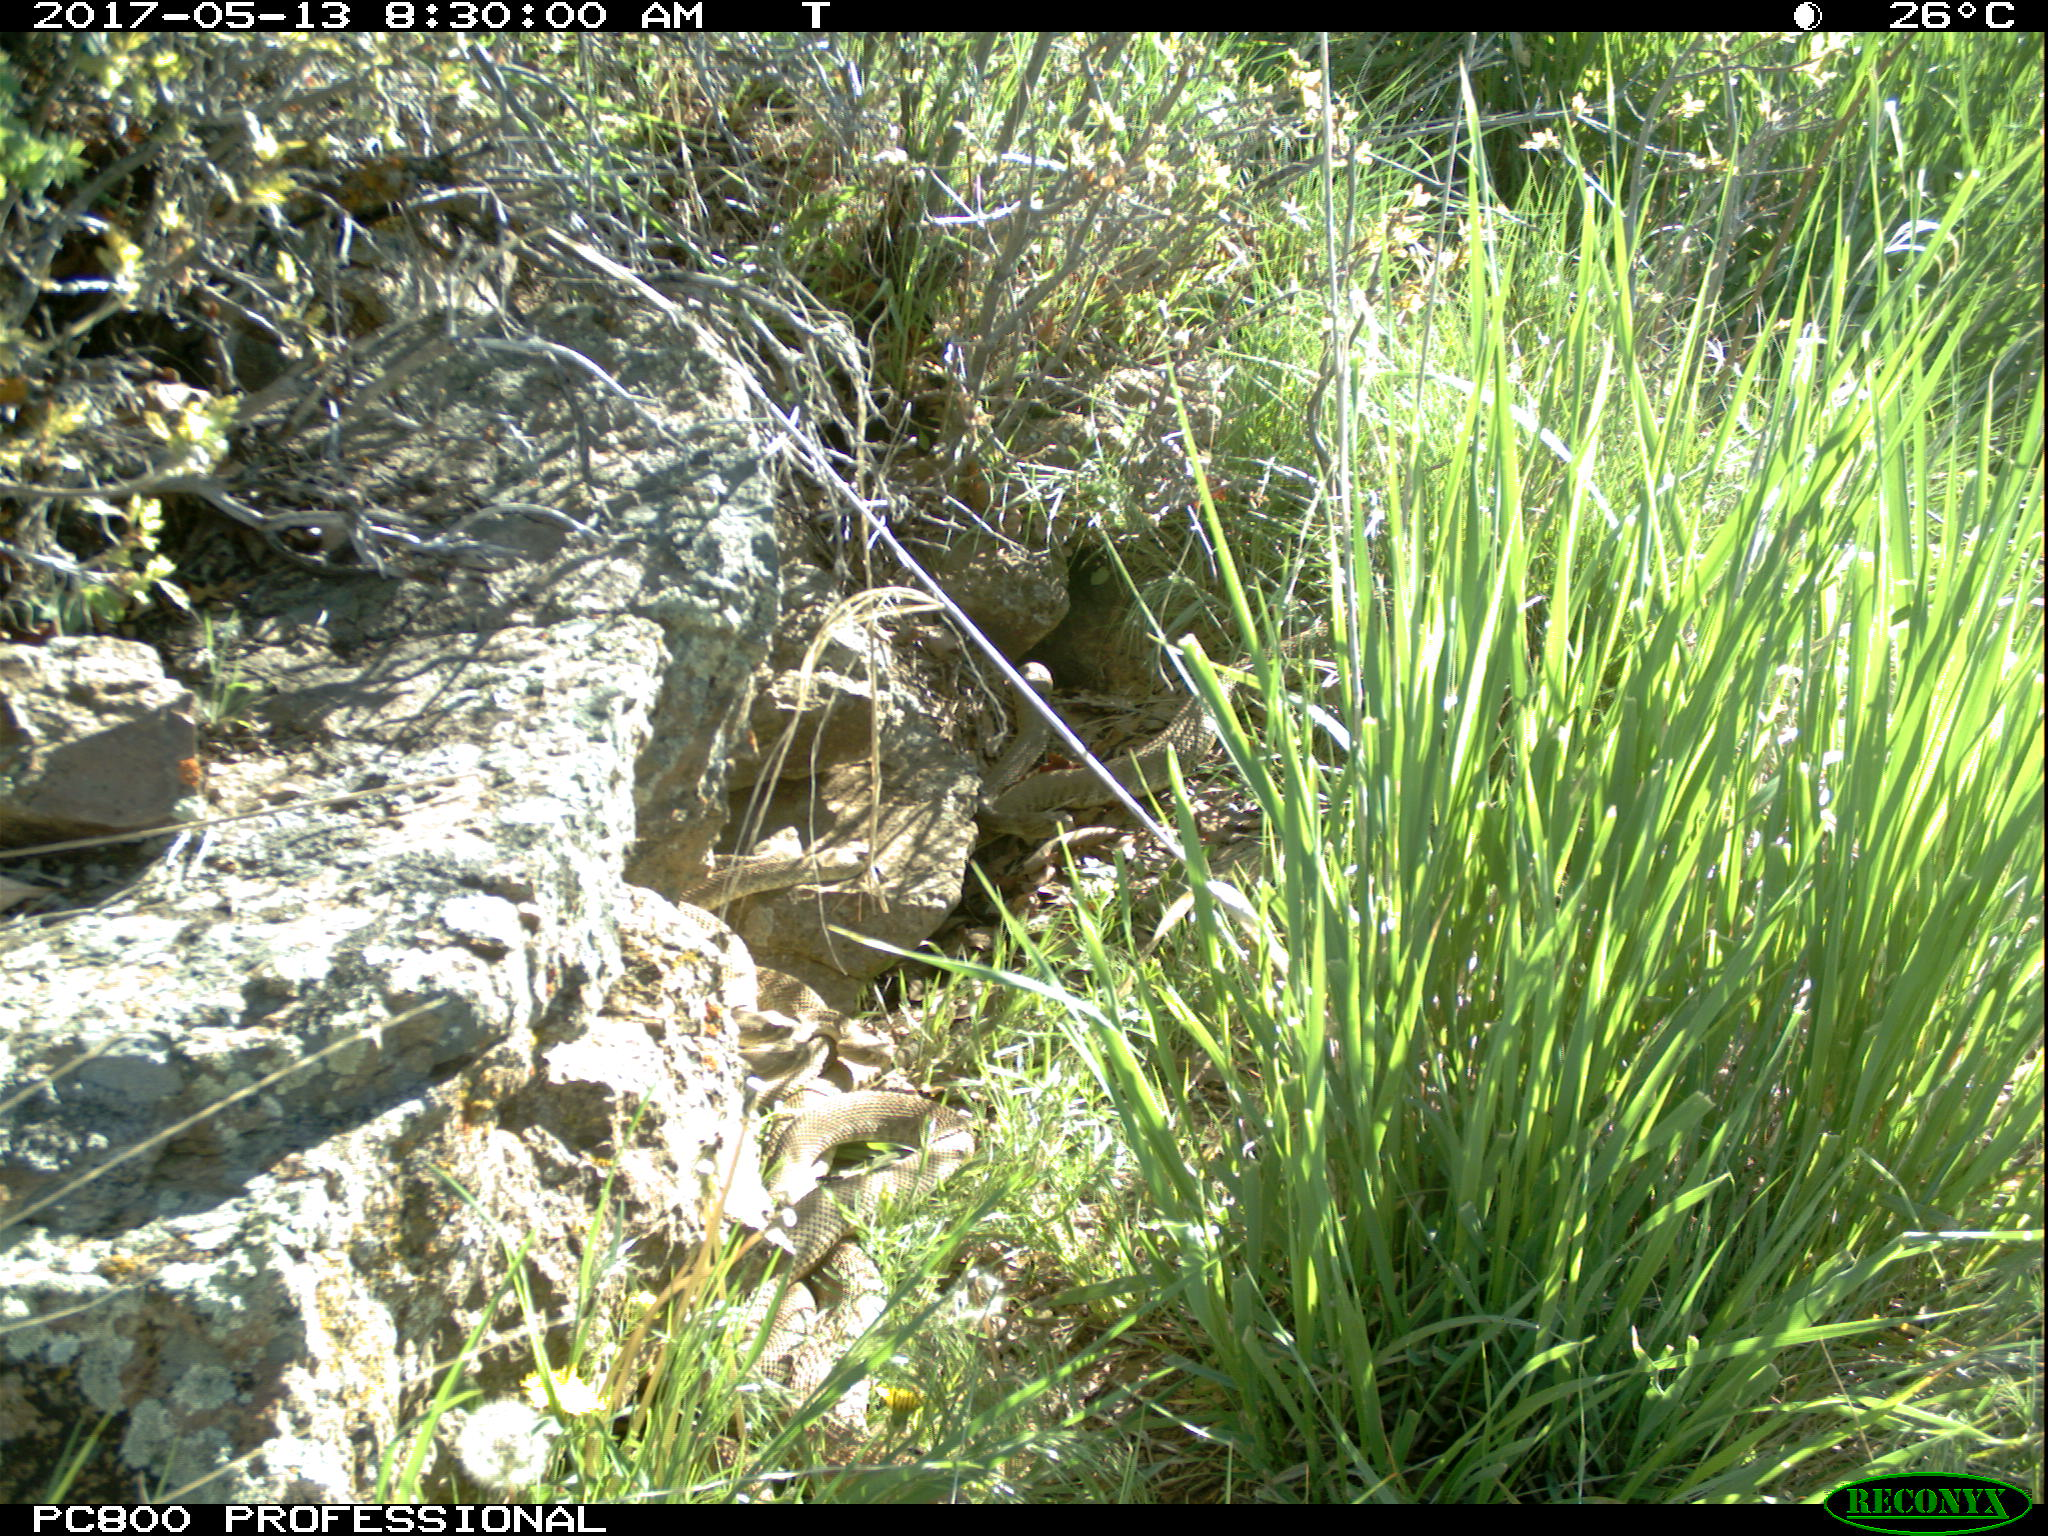snake: (1018, 668, 1258, 813), (772, 1065, 977, 1204), (692, 913, 861, 1065), (772, 1202, 884, 1378), (681, 842, 884, 905), (989, 665, 1055, 805)
